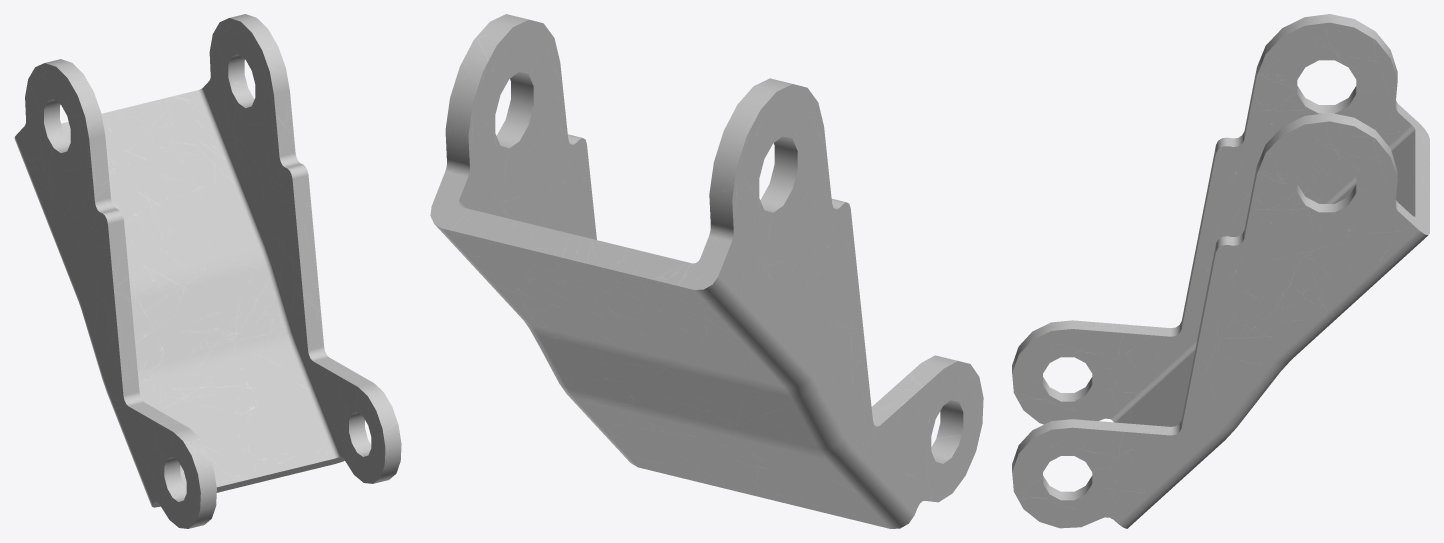
The model's file is Connector1.glb.
3 views of the same model, side by side, from view 1: azimuth 30°, elevation 25°; view 2: azimuth 150°, elevation 25°; view 3: azimuth 270°, elevation 25° (orthographic). The views are drawn at different scales.
Visible parts, largest first — view 1: color-7.003; view 2: color-7.003; view 3: color-7.003.
Boxes of the visible parts, bbox=[...] form: color-7.003: bbox=[14, 14, 401, 528]; color-7.003: bbox=[430, 14, 983, 528]; color-7.003: bbox=[1012, 14, 1429, 528].
Bounding box in the file's own units: 0.0125 × 0.0224 × 0.0206.
Materials: 1 (1 with a texture image).
